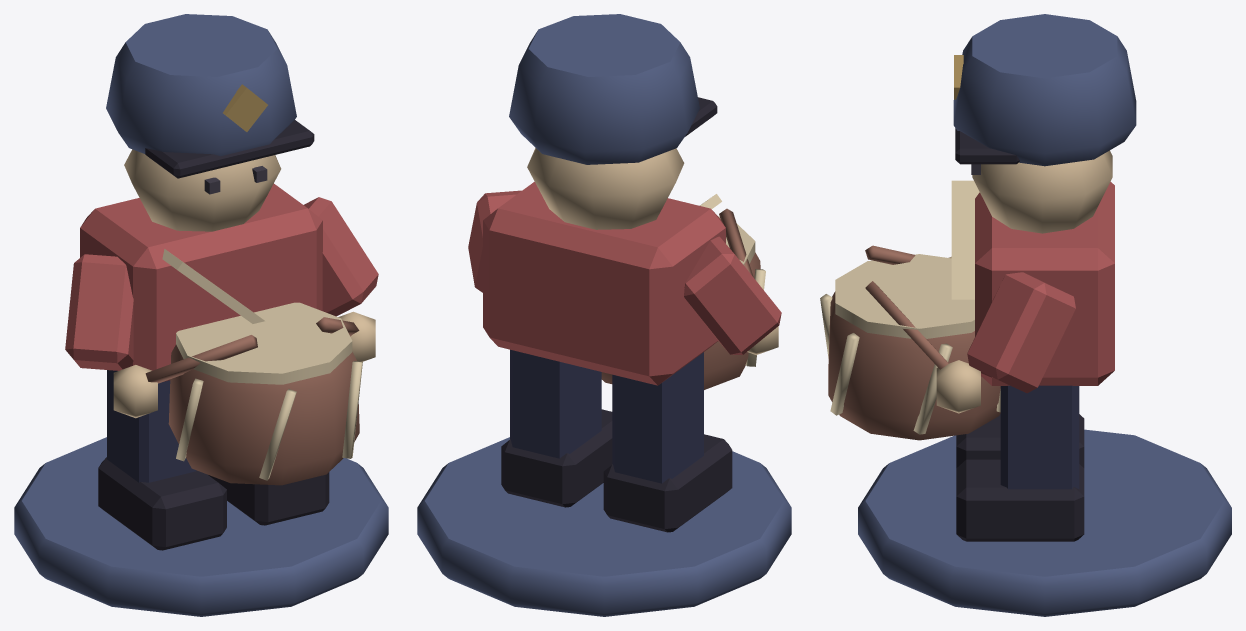
Rendered from tin_soldier.glb.
3 renders of one model, left to right at view 1: azimuth 30°, elevation 25°; view 2: azimuth 150°, elevation 25°; view 3: azimuth 270°, elevation 25°, orthographic.
Visible parts, largest first — view 1: tin_soldier; view 2: tin_soldier; view 3: tin_soldier.
Boxes of the visible parts, box(x1,y1,x2,y2) form: tin_soldier: box(14, 14, 388, 616); tin_soldier: box(417, 14, 791, 616); tin_soldier: box(820, 14, 1231, 616).
Size of the model in its own units: 0.152 by 0.222 by 0.1674.
